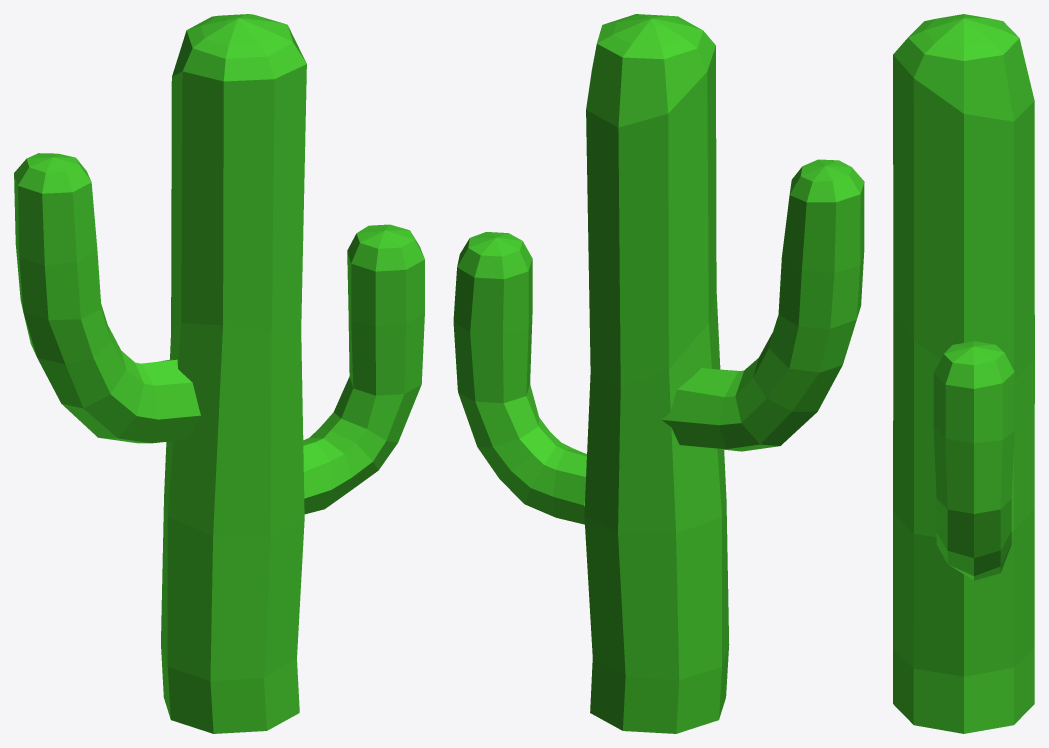
File: cactus.glb
3 views of the same model, side by side, from view 1: azimuth 30°, elevation 25°; view 2: azimuth 150°, elevation 25°; view 3: azimuth 270°, elevation 25° (orthographic).
Visible parts, largest first — view 1: Circle, Circle.001, Circle.002; view 2: Circle, Circle.001, Circle.002; view 3: Circle, Circle.002.
Part boxes in pixels (left/top/right/bottom): Circle: left=161, top=14, right=306, bottom=733; Circle.001: left=14, top=153, right=200, bottom=443; Circle.002: left=303, top=224, right=424, bottom=514; Circle: left=584, top=14, right=729, bottom=733; Circle.001: left=662, top=159, right=864, bottom=451; Circle.002: left=453, top=232, right=586, bottom=524; Circle: left=893, top=14, right=1034, bottom=733; Circle.002: left=933, top=341, right=1014, bottom=580.
Size of the model in its own units: 1.72 by 2.8 by 0.5218.
